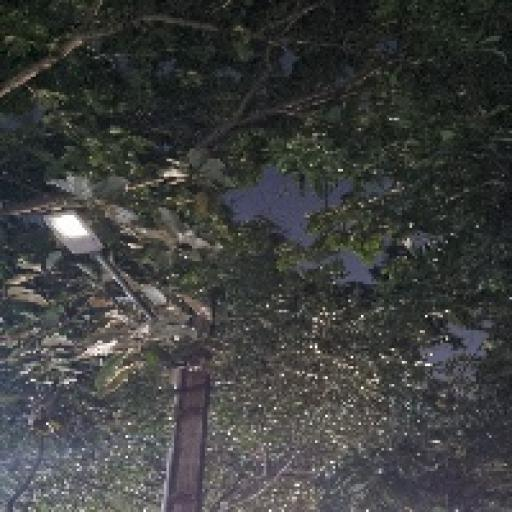Not Working: (33, 203, 117, 267)
